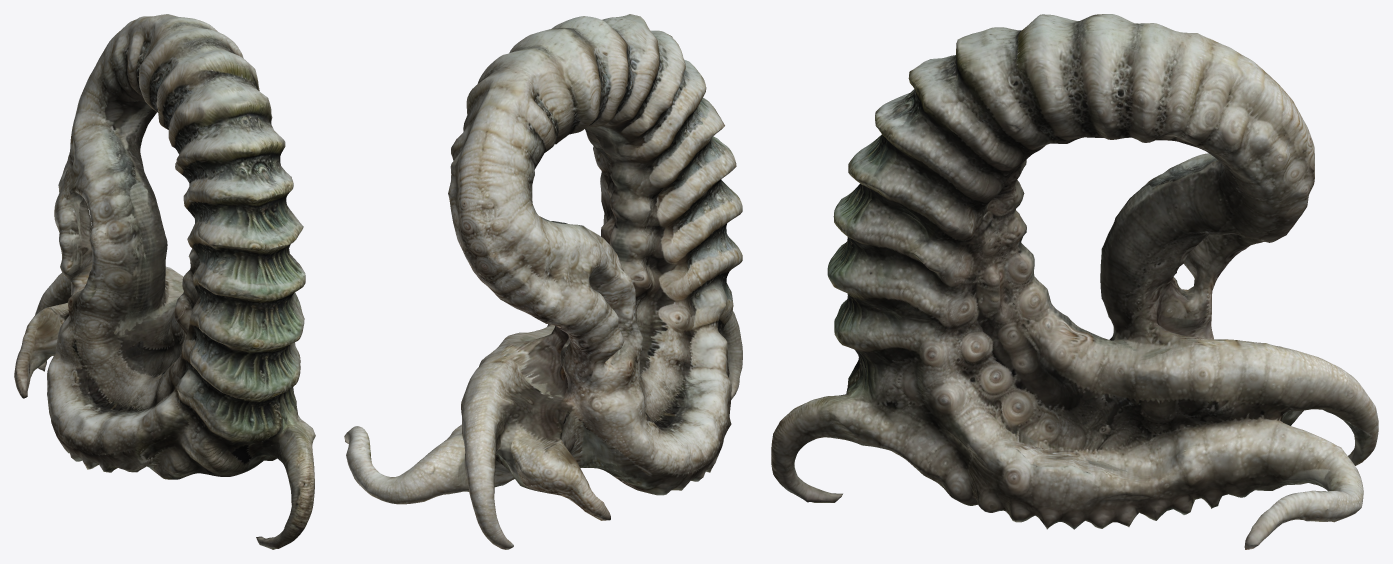
File: free_eldritch_horror_inspired_creature.glb
The picture shows the model from 3 angles, left to right: view 1: azimuth 30°, elevation 25°; view 2: azimuth 150°, elevation 25°; view 3: azimuth 270°, elevation 25°; orthographic projection. The views are drawn at different scales.
Visible parts, largest first — view 1: Mesh_0_Material_0_0; view 2: Mesh_0_Material_0_0; view 3: Mesh_0_Material_0_0.
Boxes of the visible parts, x1=… form: Mesh_0_Material_0_0: x1=14, y1=14, x2=315, y2=549; Mesh_0_Material_0_0: x1=344, y1=14, x2=742, y2=549; Mesh_0_Material_0_0: x1=771, y1=14, x2=1378, y2=549.
Bounding box in the file's own units: 0.7454 × 1.11 × 1.2.
Materials: 1 (1 with a texture image).
